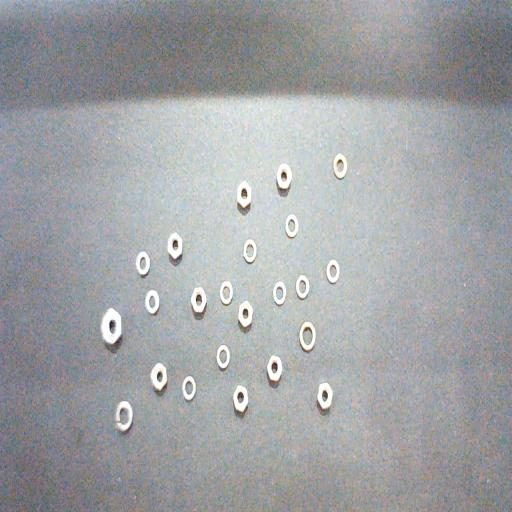nut: (101, 307, 122, 346), (150, 362, 167, 392), (190, 286, 207, 314), (266, 354, 282, 383), (236, 180, 252, 208), (276, 162, 292, 190), (317, 382, 333, 410), (233, 384, 248, 413), (168, 232, 182, 261), (238, 300, 252, 328)
washer: (114, 399, 133, 433), (299, 320, 316, 352), (295, 274, 310, 300), (182, 374, 196, 401), (333, 152, 347, 179), (145, 289, 159, 315), (136, 250, 150, 276), (216, 345, 230, 370), (242, 238, 256, 263), (273, 280, 286, 306), (326, 259, 340, 283), (220, 280, 233, 305), (285, 213, 298, 238)
